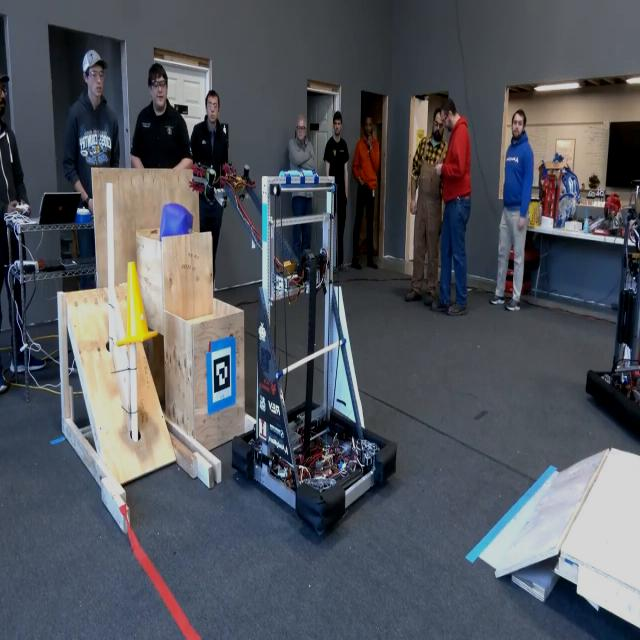frc_cone: (125, 256, 153, 342)
frc_cube: (160, 201, 192, 239)
